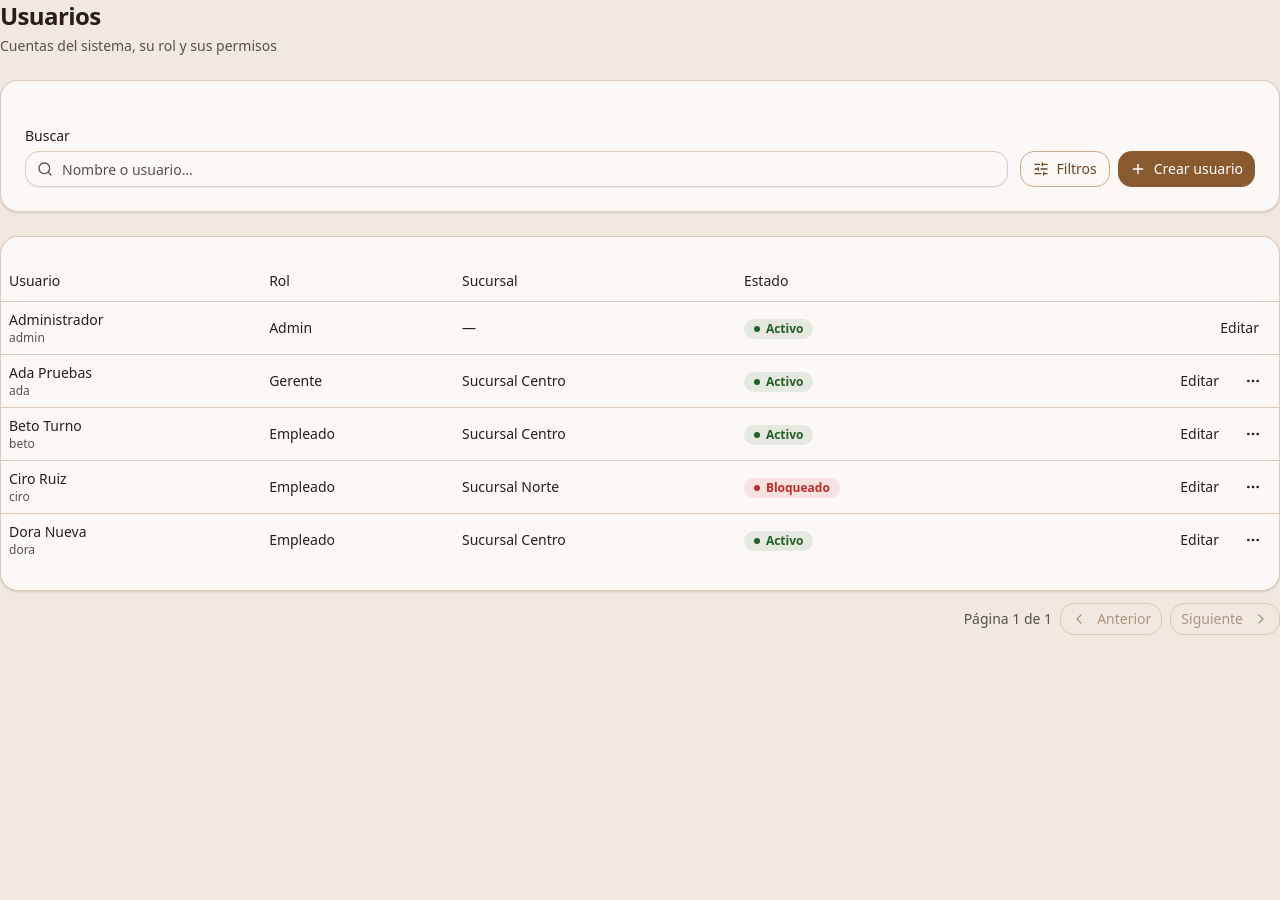
Permisos de un usuario › quita una concesión y vuelve al valor que da el rol
Expected: the text "Ada Pruebas" is shown, [9, 362, 92, 382]
Click the button named "Más acciones" in the row of "Ada Pruebas" at (1253, 380), box [1235, 362, 1271, 398]
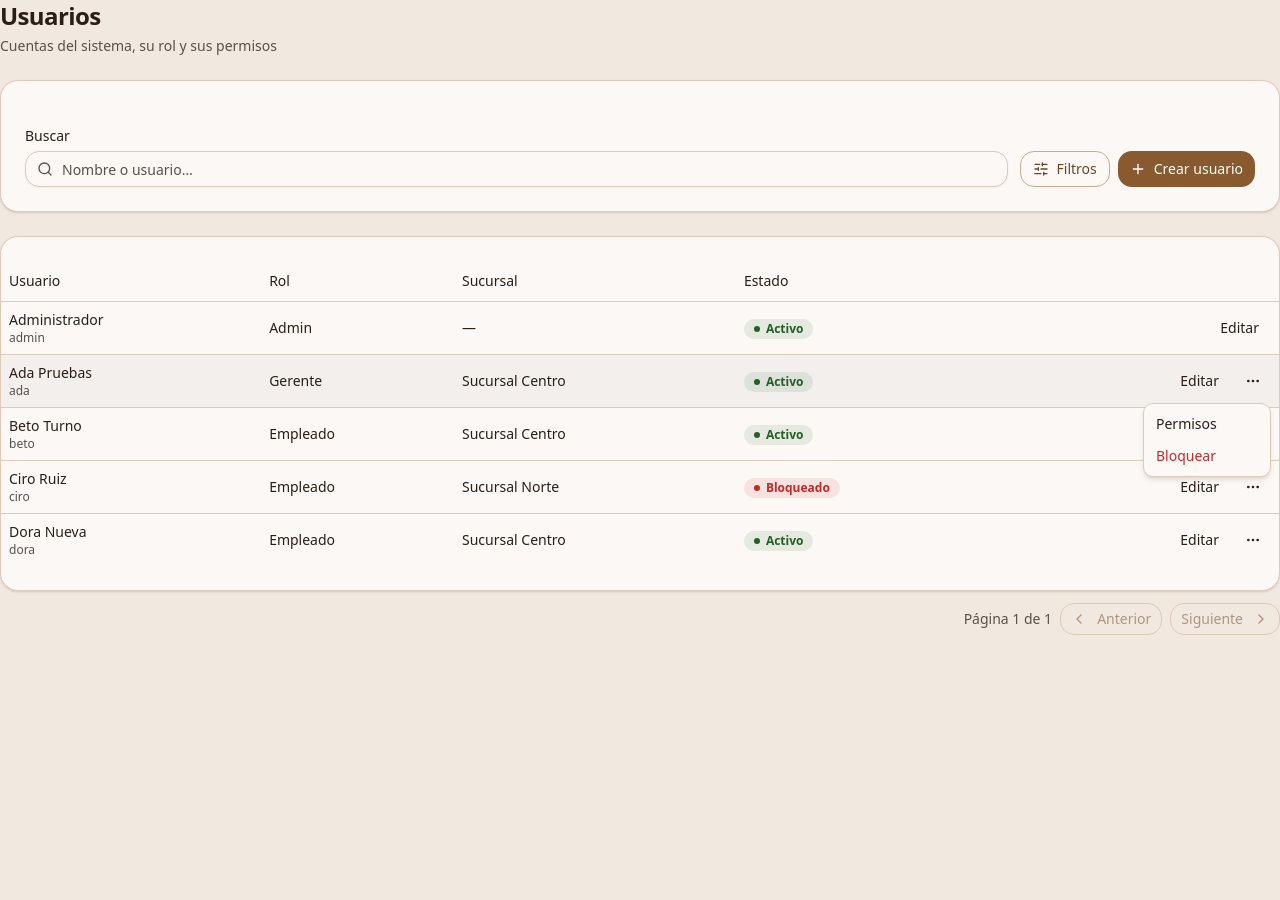
Click the menu item "Permisos" at (1186, 424), box [1156, 414, 1217, 433]
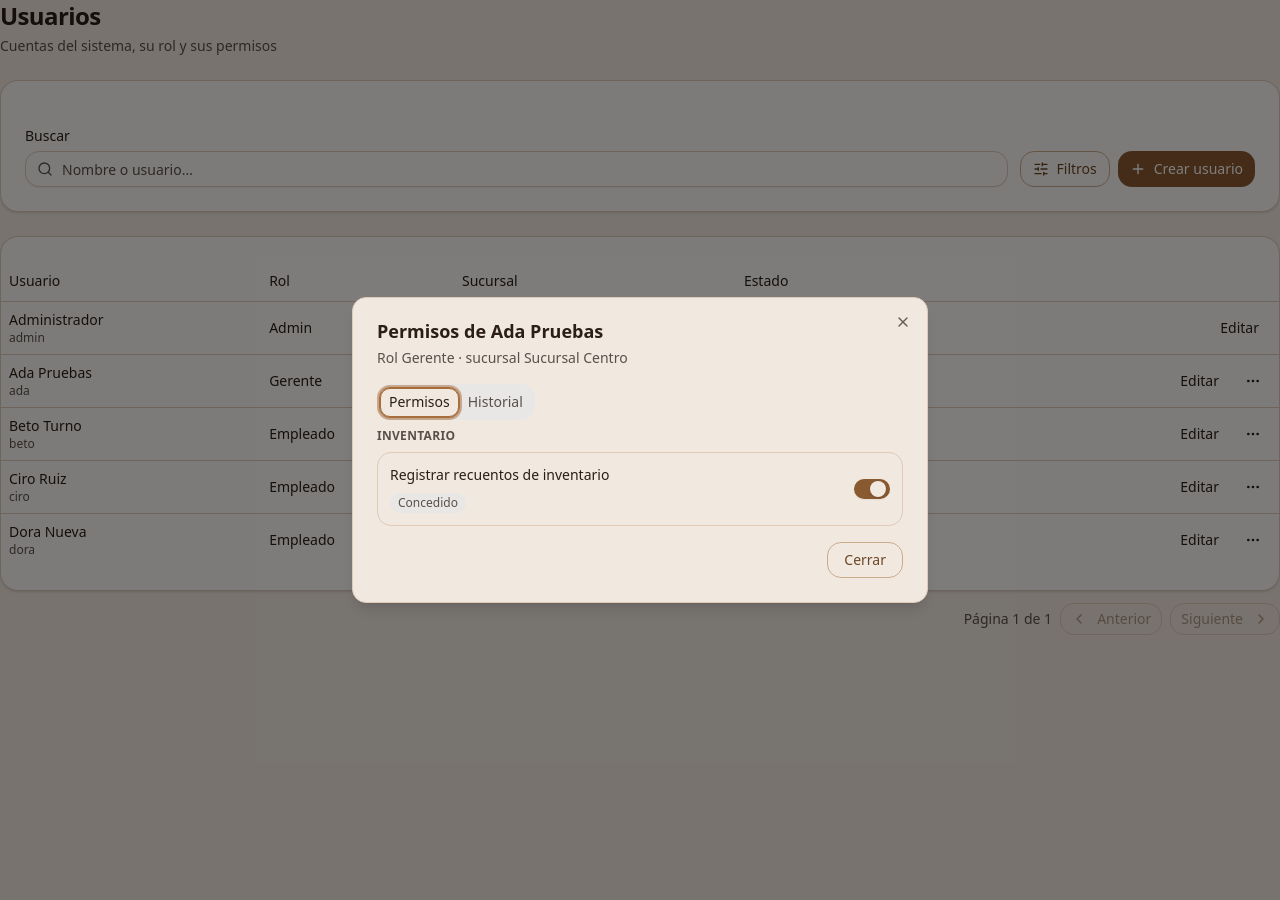
Expected: the text "Registrar recuentos de inventario" is shown, [390, 465, 609, 485]
Expected: the text "Concedido" is shown, [390, 493, 466, 513]
Click the switch named "Registrar recuentos de inventario" at (872, 489), box [854, 479, 890, 499]
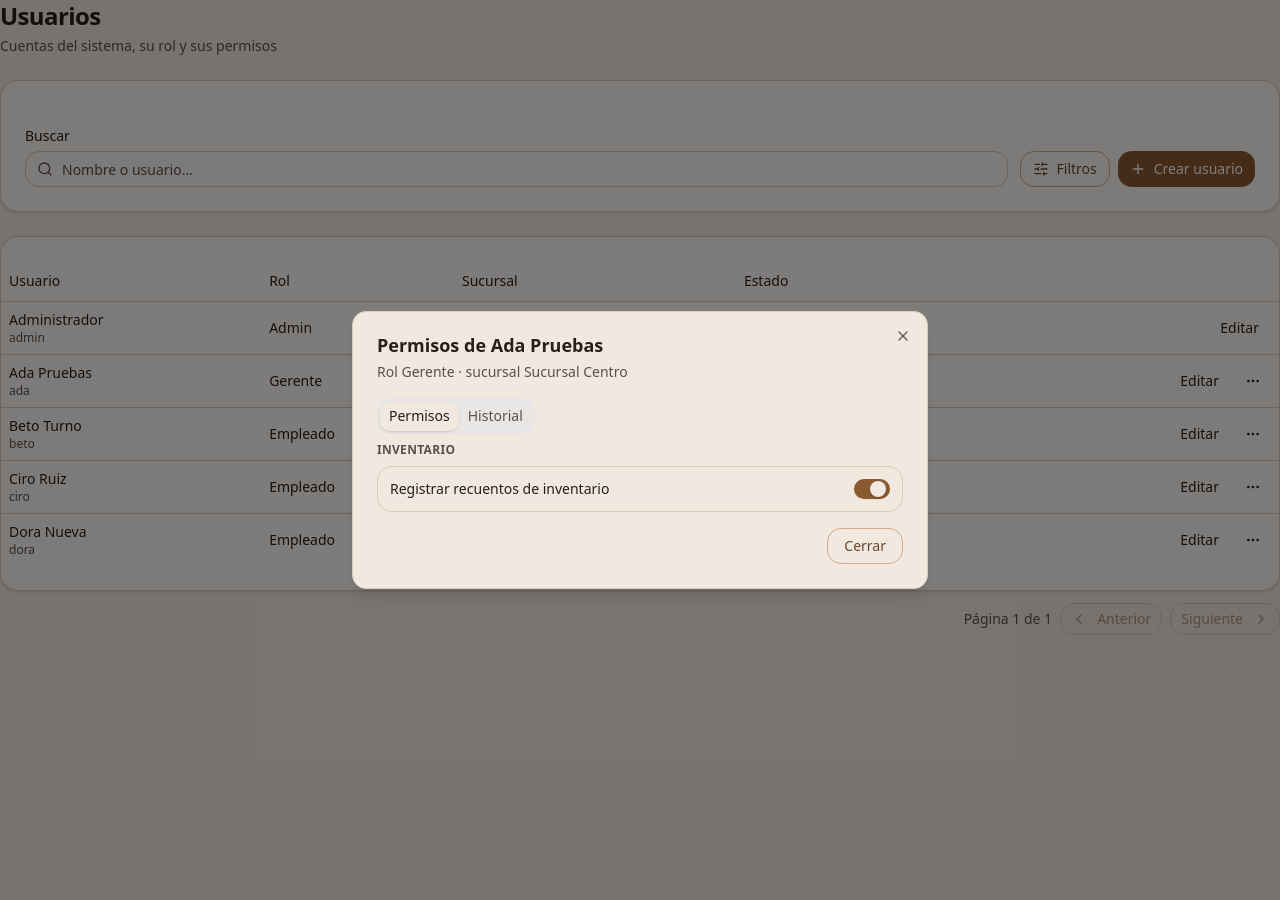
Expected: the text "Concedido" is gone
